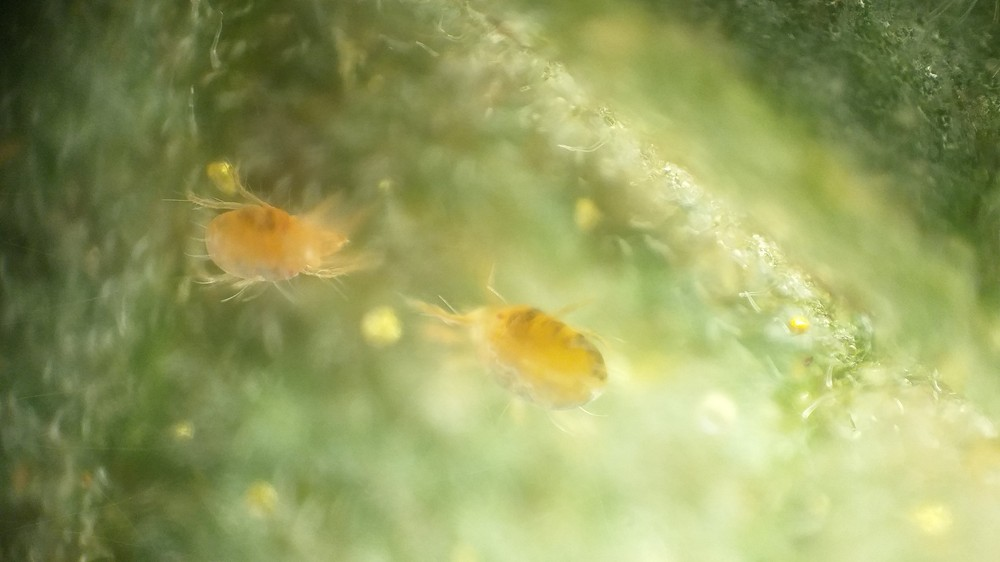Aracnido Rojo: (401, 264, 650, 458), (163, 163, 384, 330)
